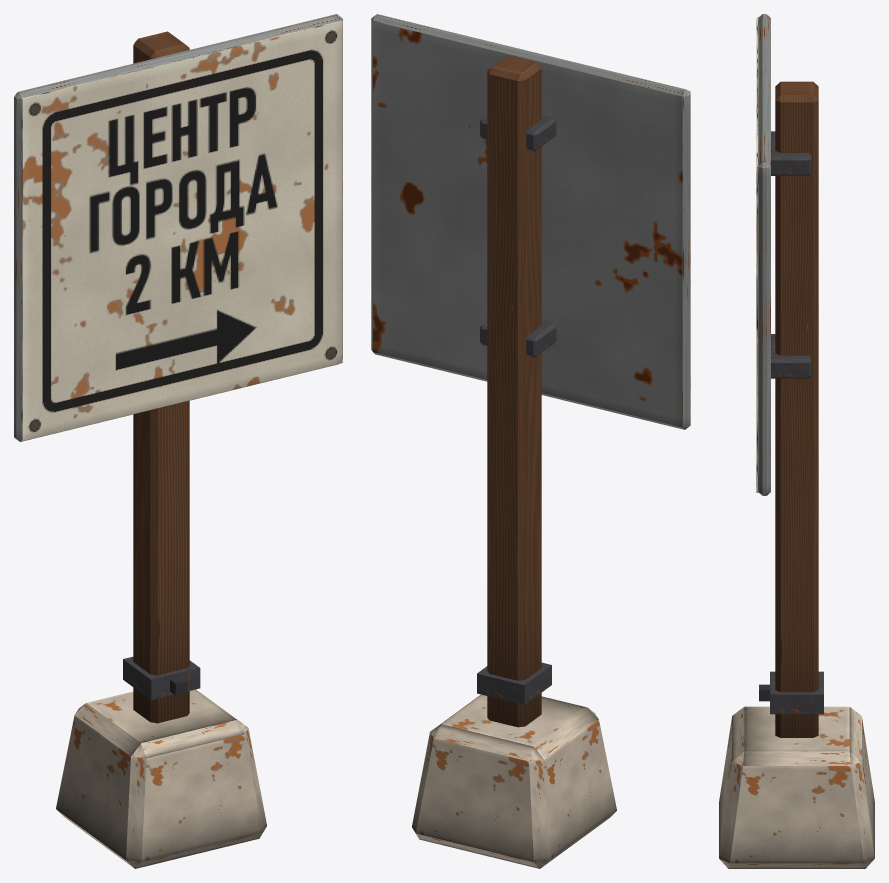
The model's file is Sign_Road.fbx.
3 renders of one model, left to right at view 1: azimuth 30°, elevation 25°; view 2: azimuth 150°, elevation 25°; view 3: azimuth 270°, elevation 25°, orthographic. The views are drawn at different scales.
Parts seen in each view (by area): view 1: Sign_Road_Plate, Sign_Road_Post; view 2: Sign_Road_Plate, Sign_Road_Post; view 3: Sign_Road_Post, Sign_Road_Plate.
Part boxes in pixels (x1,y1,x2,y2): Sign_Road_Plate: [14, 14, 342, 441]; Sign_Road_Post: [56, 31, 266, 868]; Sign_Road_Plate: [371, 14, 690, 429]; Sign_Road_Post: [412, 55, 616, 868]; Sign_Road_Post: [719, 81, 874, 868]; Sign_Road_Plate: [756, 14, 811, 495].
Size of the model in its own units: 1 by 2.3 by 0.4323.
1 material, 1 textured.
